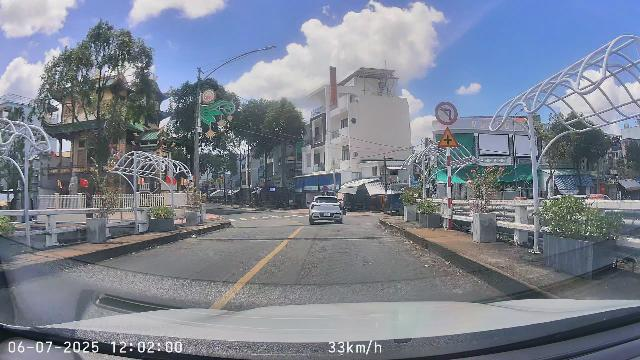123a-cam-re-trai: (434, 101, 458, 126)
